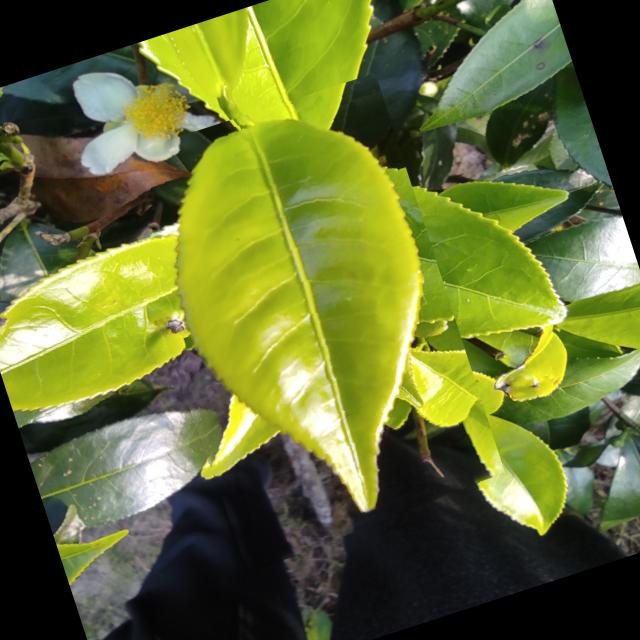Category B 2-4 days: (102, 72, 510, 578)
